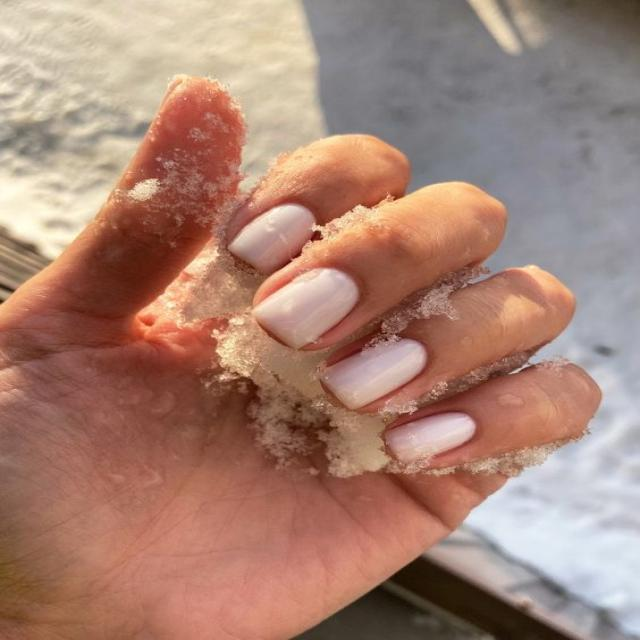Fingernail: (254, 269, 359, 348), (324, 340, 426, 406), (230, 205, 314, 272), (386, 412, 475, 460)
